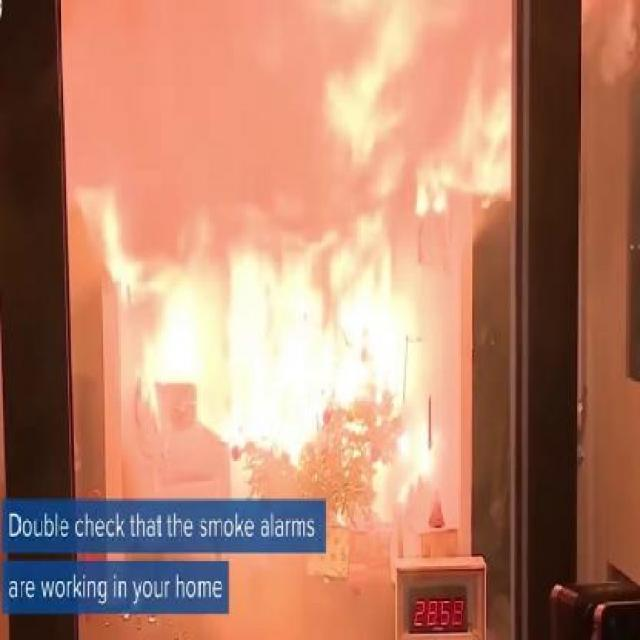smoke: (126, 89, 332, 563)
